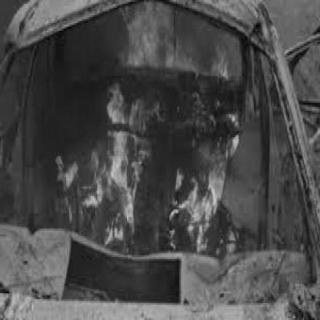Fire: (51, 0, 250, 264)
